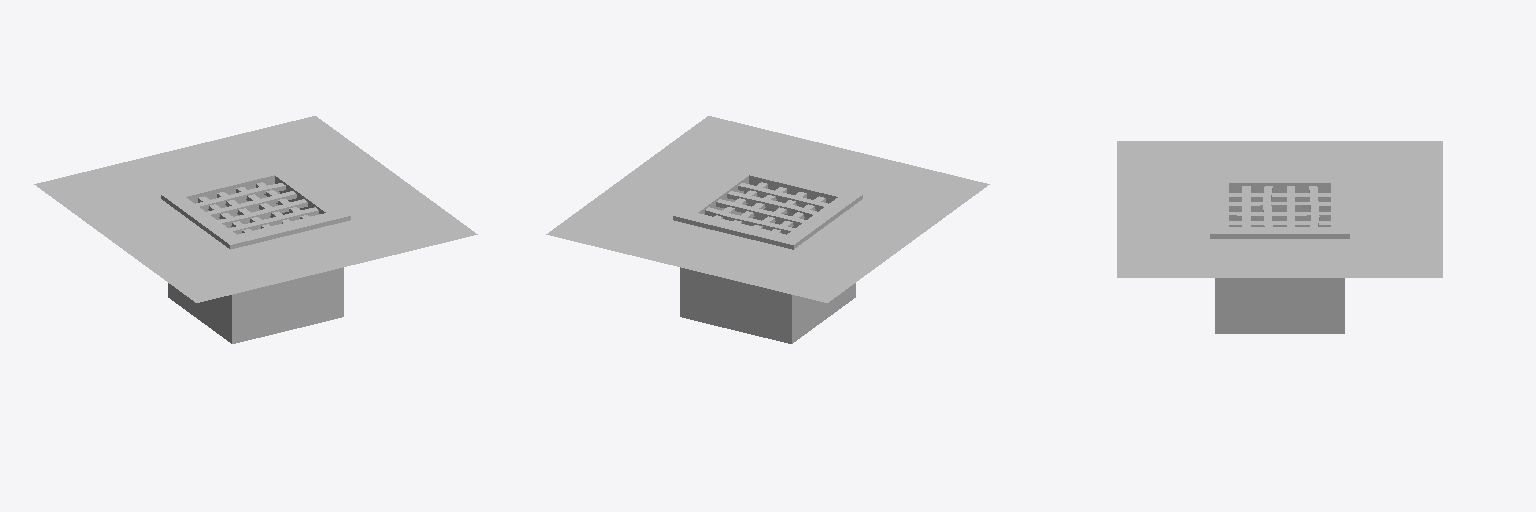
File: ground 3.obj
3 views of the same model, side by side, from view 1: azimuth 30°, elevation 25°; view 2: azimuth 150°, elevation 25°; view 3: azimuth 270°, elevation 25° (orthographic).
Visible parts, largest first — view 1: Ground_03; view 2: Ground_03; view 3: Ground_03.
Boxes of the visible parts, box(x1,y1,x2,y2) form: Ground_03: box(34, 116, 477, 343); Ground_03: box(546, 116, 989, 343); Ground_03: box(1117, 141, 1442, 333).
Bounding box in the file's own units: 2 × 0.6929 × 2.